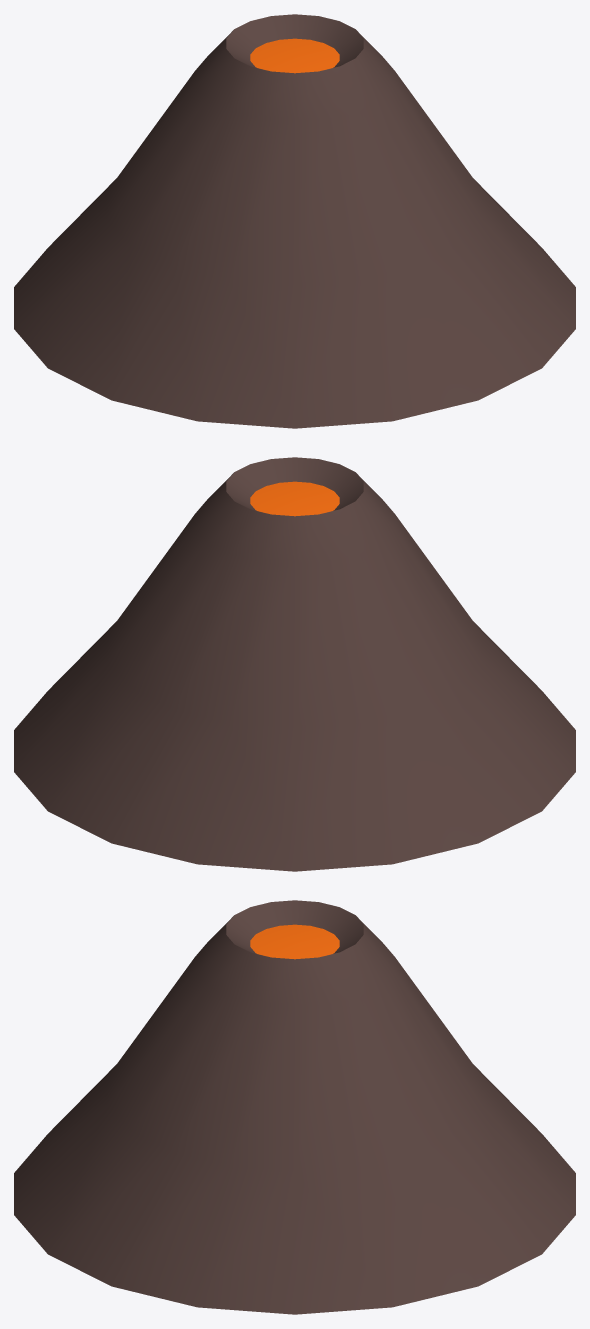
The model's file is Volcano.fbx.
3 views of the same model, one above another, from view 1: azimuth 30°, elevation 25°; view 2: azimuth 150°, elevation 25°; view 3: azimuth 270°, elevation 25° (orthographic).
Visible parts, largest first — view 1: Volcano; view 2: Volcano; view 3: Volcano.
Part boxes in pixels (x1,y1,x2,y2): Volcano: (14, 14, 575, 428); Volcano: (14, 457, 575, 871); Volcano: (14, 900, 575, 1314).
Size of the model in its own units: 9000 by 4600 by 8863.
